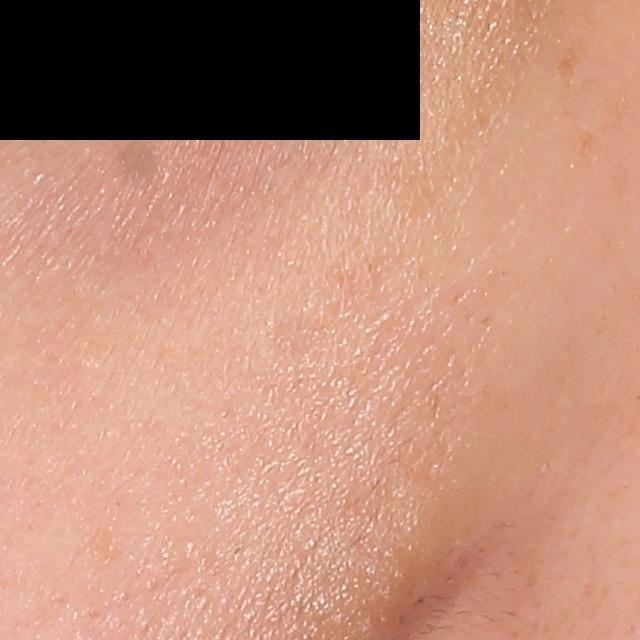melasma: (552, 37, 586, 87)
